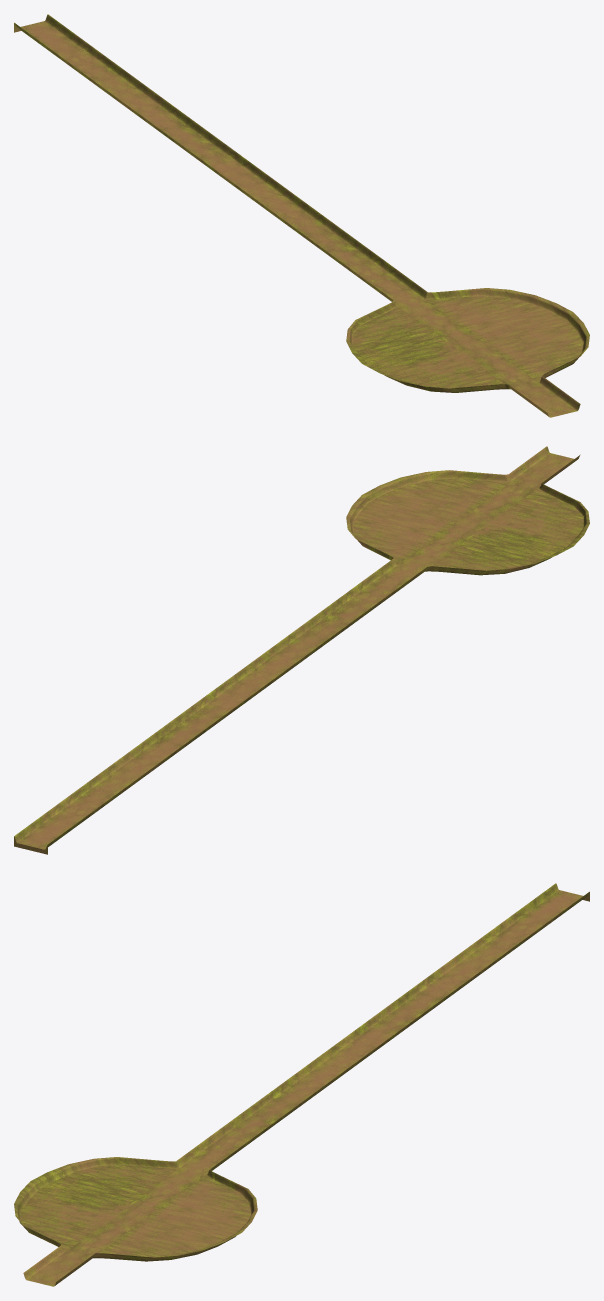
Rendered from michi.fbx.
The picture shows the model from 3 angles, top to bottom: view 1: azimuth 30°, elevation 25°; view 2: azimuth 150°, elevation 25°; view 3: azimuth 330°, elevation 25°; orthographic projection.
Parts seen in each view (by area): view 1: michi; view 2: michi; view 3: michi.
Boxes of the visible parts, x1,y1,x2,y2 form: michi: (14,14,589,417); michi: (14,446,589,854); michi: (14,883,589,1286).
Bounding box in the file's own units: 6432 × 297 × 28062.
1 material, 1 textured.
